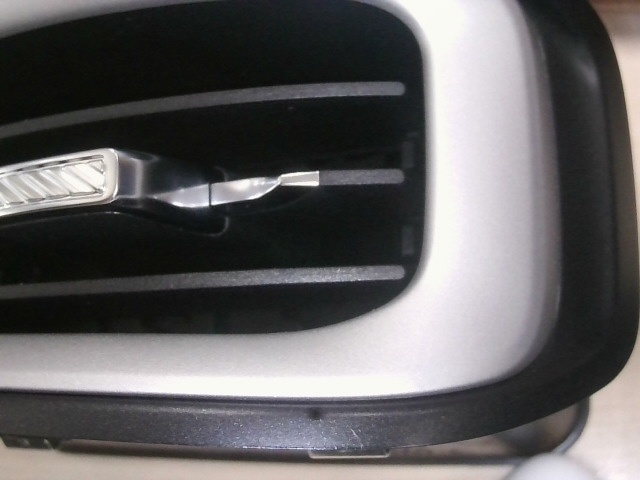NG: (336, 421, 381, 453)
